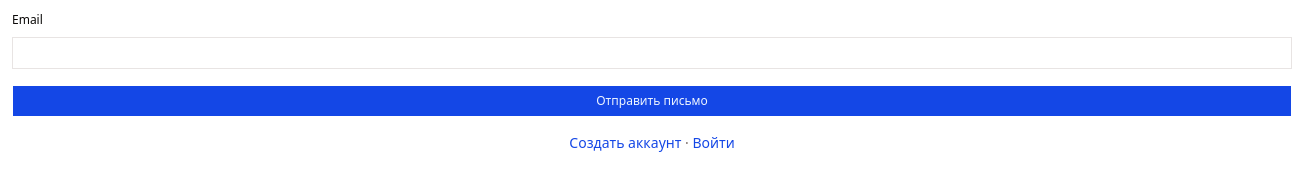
Test: ResendEmailVerificationForm › sends the exact body and shows the generic accepted state
This screenshot has width=1304, height=172.
Type "person@example.com" into the field labelled "Email".
click(652, 52); type("person@example.com")  # box [12,36,1292,68]
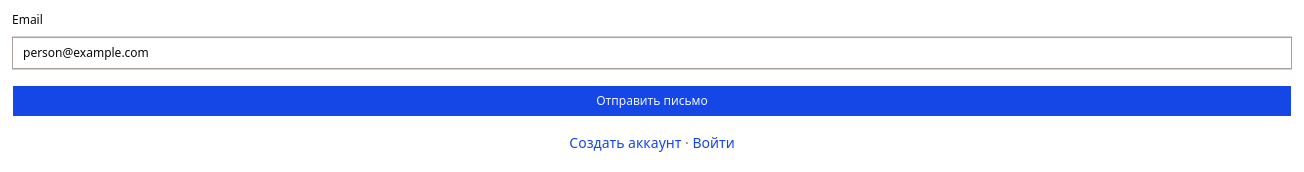
Click the button named "Отправить письмо".
click(652, 100)  # box [12,84,1292,116]
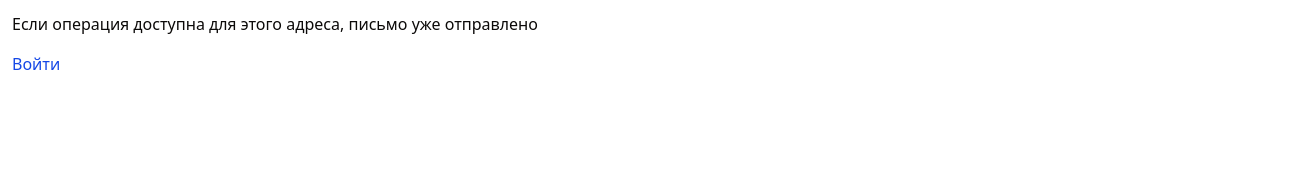
Now the text "Если операция доступна для этого адреса, письмо уже отправлено" is shown, box [12,13,538,35]
